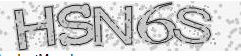6: (136, 2, 176, 44)
H: (12, 4, 57, 50)
N: (93, 4, 135, 49)
S: (56, 3, 95, 50), (173, 5, 213, 47)
